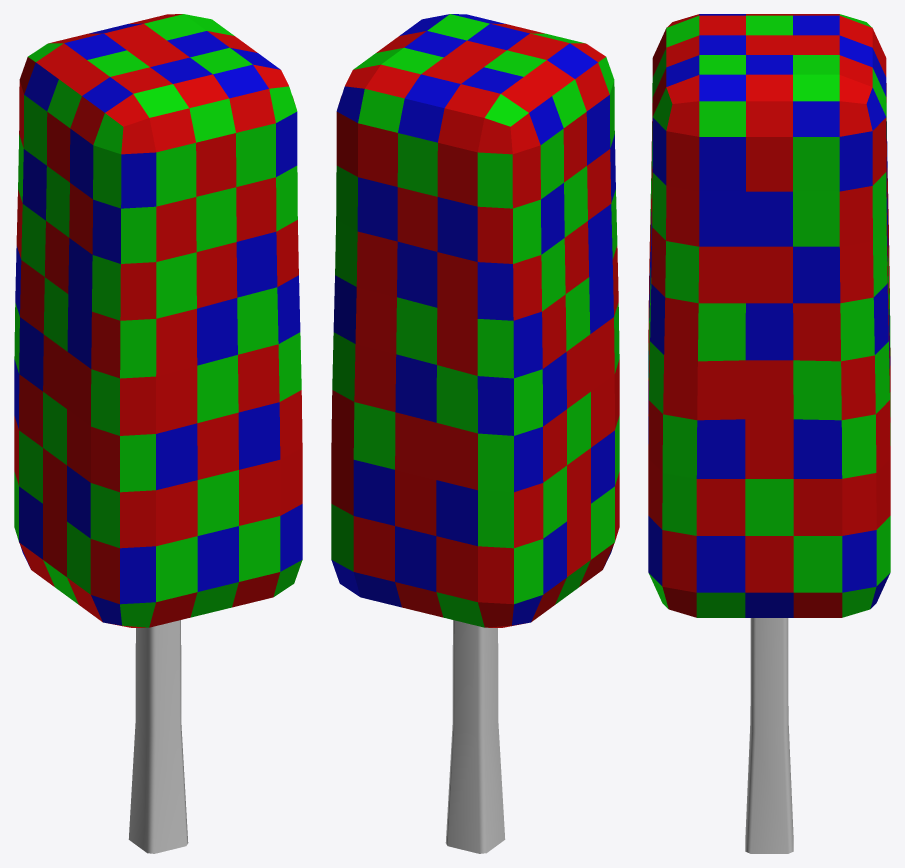
Rendered from Tree_A_02.fbx.
3 views of the same model, side by side, from view 1: azimuth 30°, elevation 25°; view 2: azimuth 150°, elevation 25°; view 3: azimuth 270°, elevation 25° (orthographic).
Parts seen in each view (by area): view 1: Tree_A_02_Leaves, Tree_A_02_Trunk; view 2: Tree_A_02_Leaves, Tree_A_02_Trunk; view 3: Tree_A_02_Leaves, Tree_A_02_Trunk.
Part boxes in pixels (x1,y1,x2,y2): Tree_A_02_Leaves: [14, 14, 302, 627]; Tree_A_02_Trunk: [128, 620, 188, 853]; Tree_A_02_Leaves: [331, 14, 619, 627]; Tree_A_02_Trunk: [445, 620, 505, 853]; Tree_A_02_Leaves: [648, 14, 890, 617]; Tree_A_02_Trunk: [745, 618, 793, 853].
Size of the model in its own units: 1.11 by 4.02 by 1.11.
